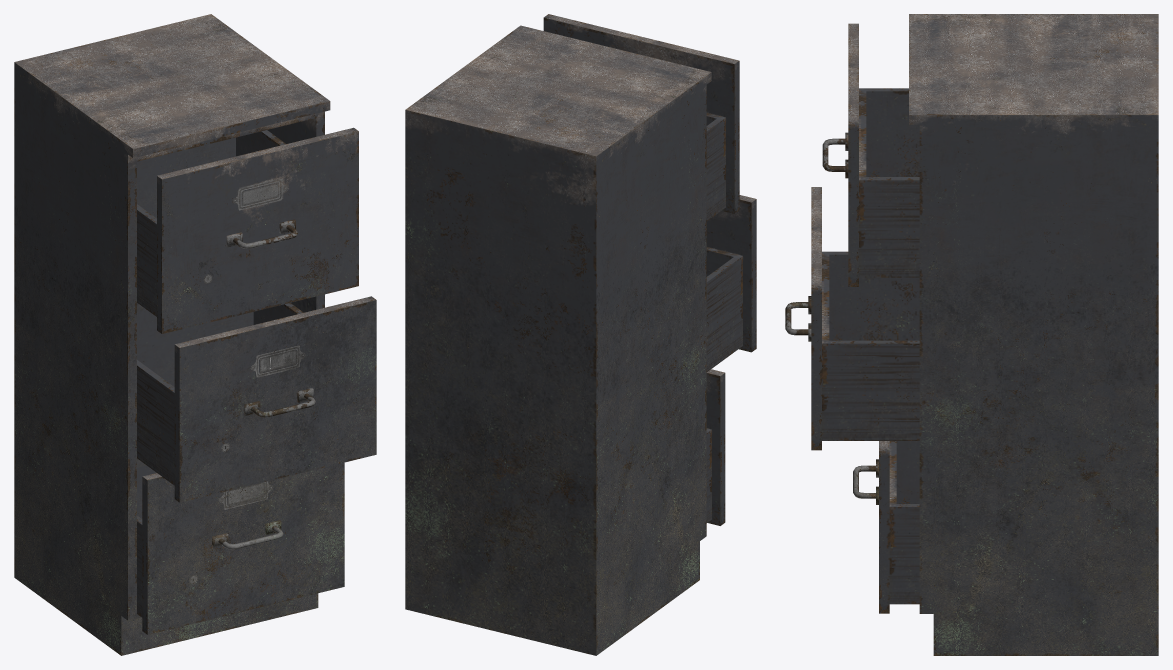
File: ArchiveDrawersOpen.fbx
3 renders of one model, left to right at view 1: azimuth 30°, elevation 25°; view 2: azimuth 150°, elevation 25°; view 3: azimuth 270°, elevation 25°, orthographic. The views are drawn at different scales.
Visible parts, largest first — view 1: ArchiveDrawersOpen; view 2: ArchiveDrawersOpen; view 3: ArchiveDrawersOpen.
Boxes of the visible parts, x1,y1,x2,y2 form: ArchiveDrawersOpen: (14, 14, 376, 655); ArchiveDrawersOpen: (405, 14, 756, 655); ArchiveDrawersOpen: (785, 14, 1158, 655).
Size of the model in its own units: 40 by 100 by 62.49.
